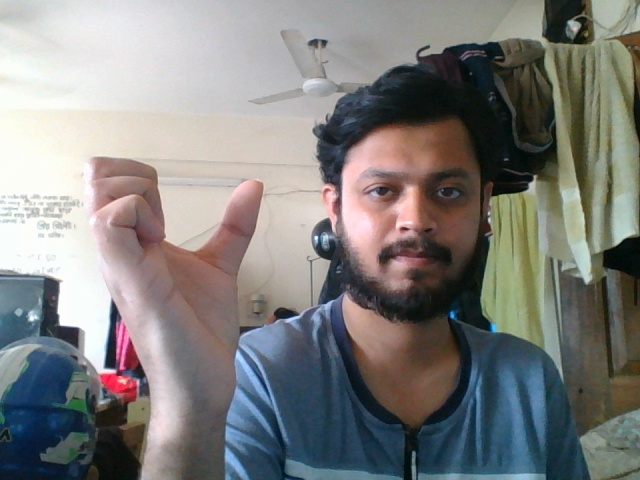kha: (73, 150, 280, 389)
